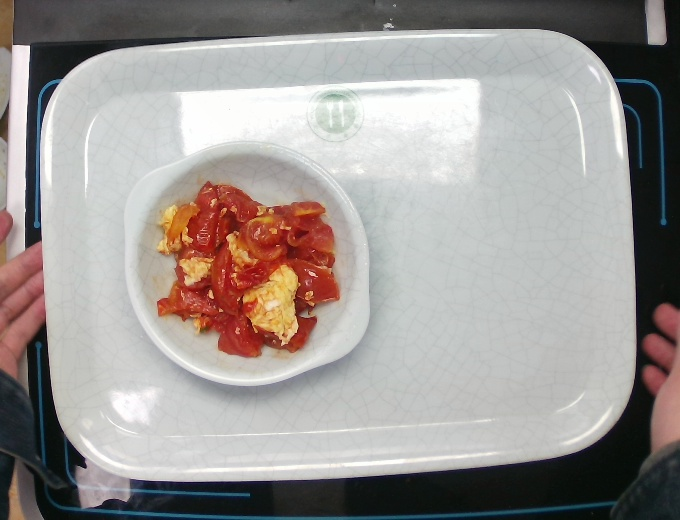JYsf-Shuang_Er_Wan: (121, 139, 372, 389)
